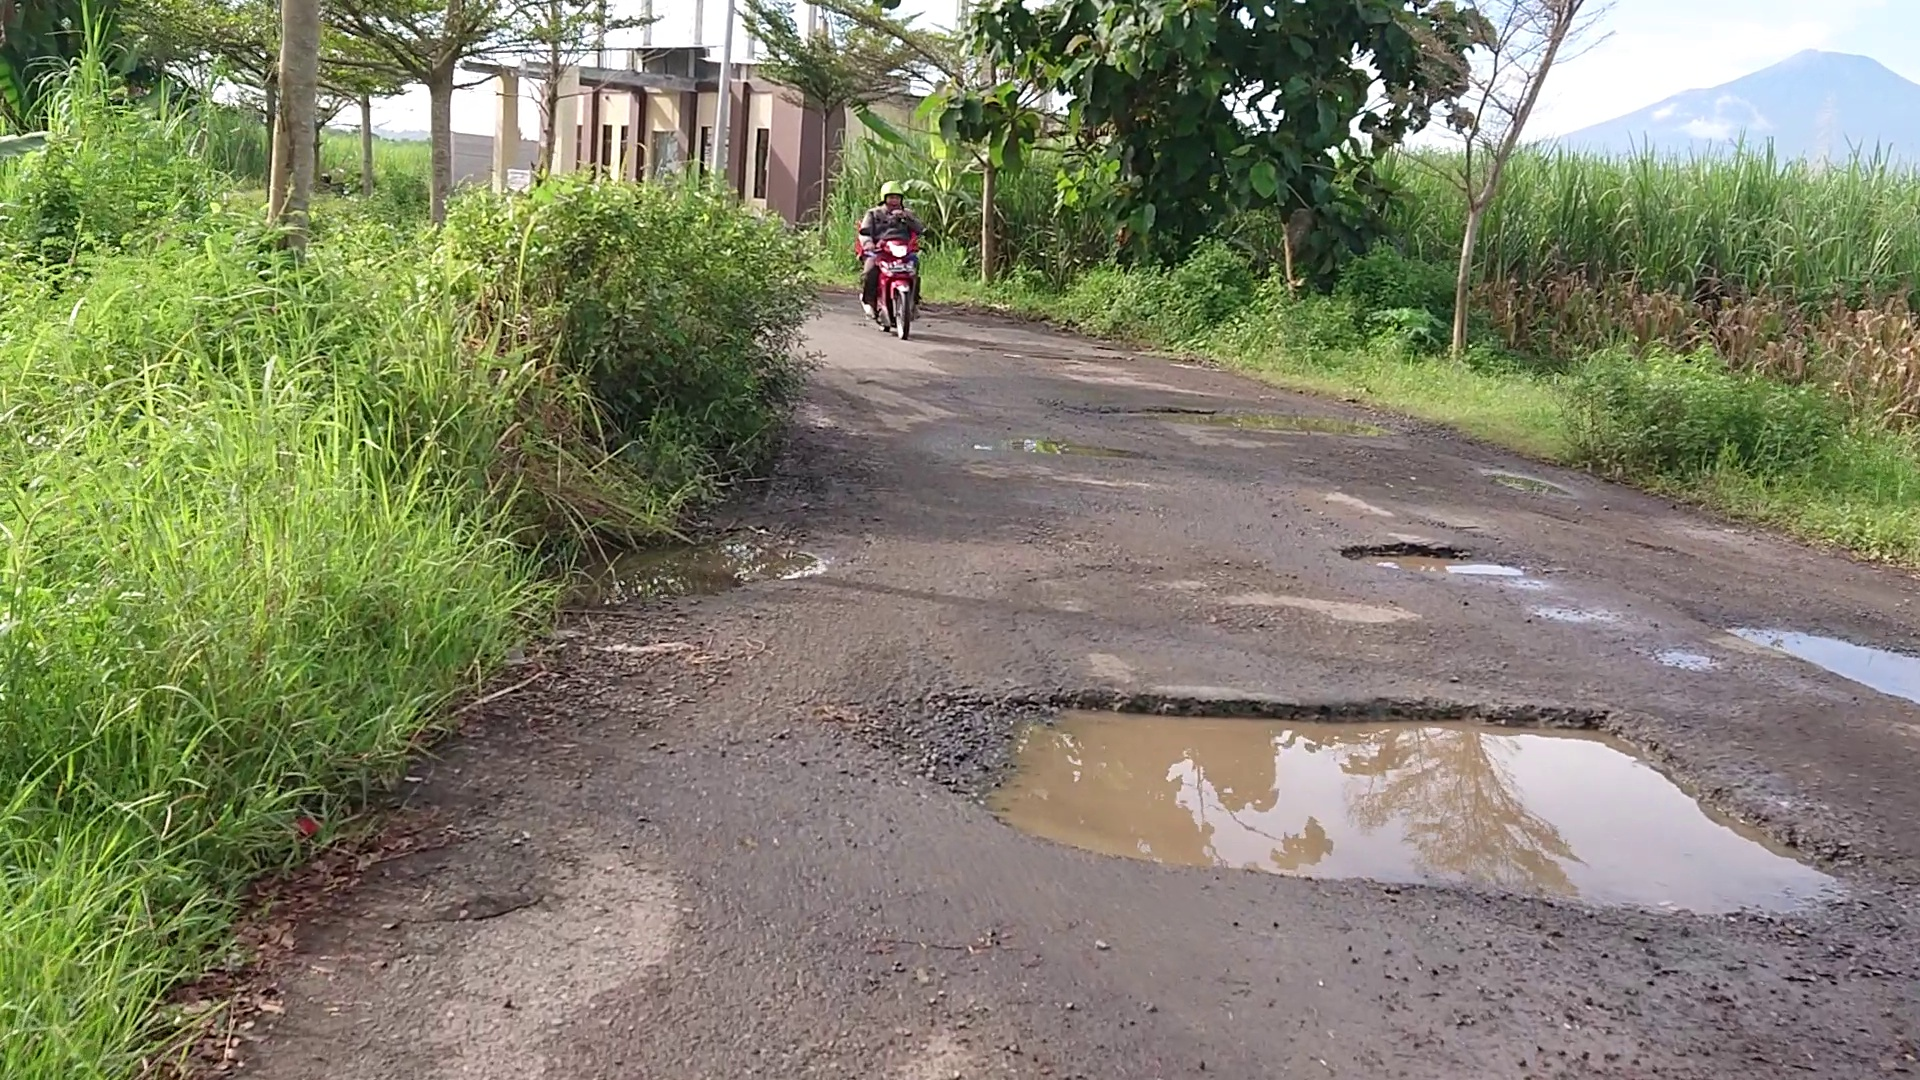Berlubang: (996, 702, 1836, 897), (1135, 397, 1393, 451), (1738, 628, 1917, 695), (1342, 541, 1540, 582)
